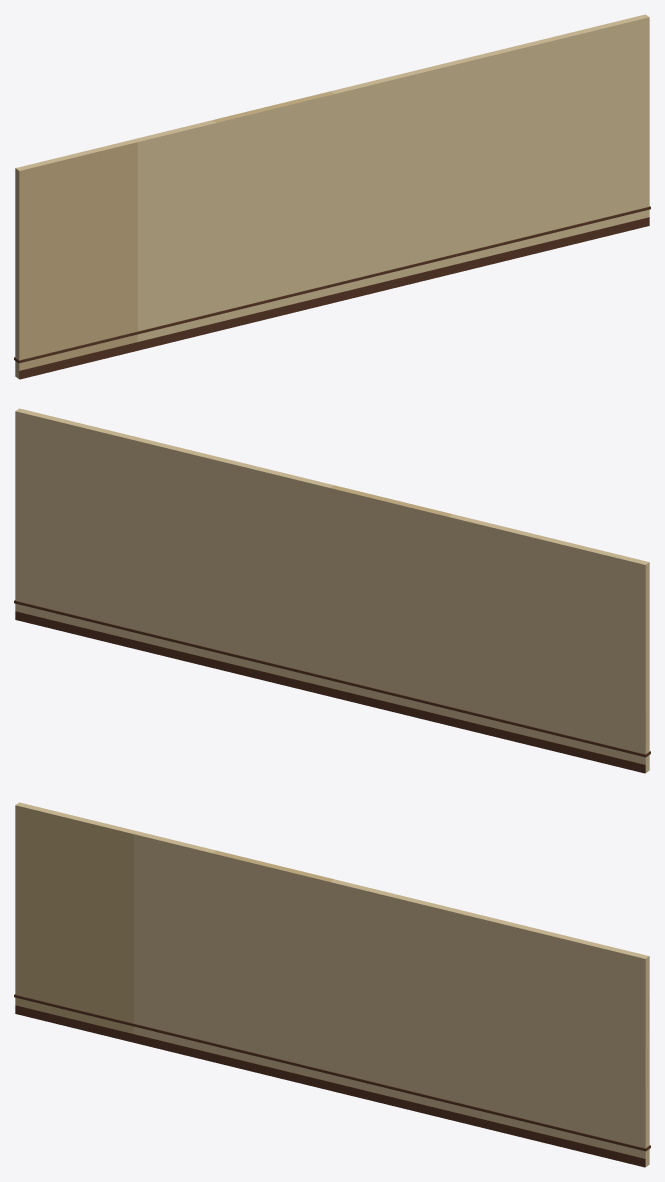
The model's file is mall_east_back.glb.
3 views of the same model, one above another, from view 1: azimuth 30°, elevation 25°; view 2: azimuth 150°, elevation 25°; view 3: azimuth 330°, elevation 25° (orthographic).
Visible parts, largest first — view 1: Box1, Box2, Box3, Box4; view 2: Box1, Box2, Box3, Box4; view 3: Box1, Box2, Box3, Box4.
Part boxes in pixels (bbox=[...]): Box1: bbox=[15, 14, 649, 378]; Box2: bbox=[19, 217, 649, 379]; Box3: bbox=[15, 210, 649, 378]; Box4: bbox=[14, 206, 650, 363]; Box1: bbox=[15, 408, 649, 772]; Box2: bbox=[15, 611, 645, 773]; Box3: bbox=[15, 604, 649, 772]; Box4: bbox=[14, 600, 650, 757]; Box1: bbox=[15, 802, 649, 1166]; Box2: bbox=[15, 1005, 645, 1167]; Box3: bbox=[15, 998, 649, 1166]; Box4: bbox=[14, 994, 650, 1151].
Size of the model in its own units: 13.97 by 4.4 by 0.19.
Materials: 2 (1 with a texture image).
